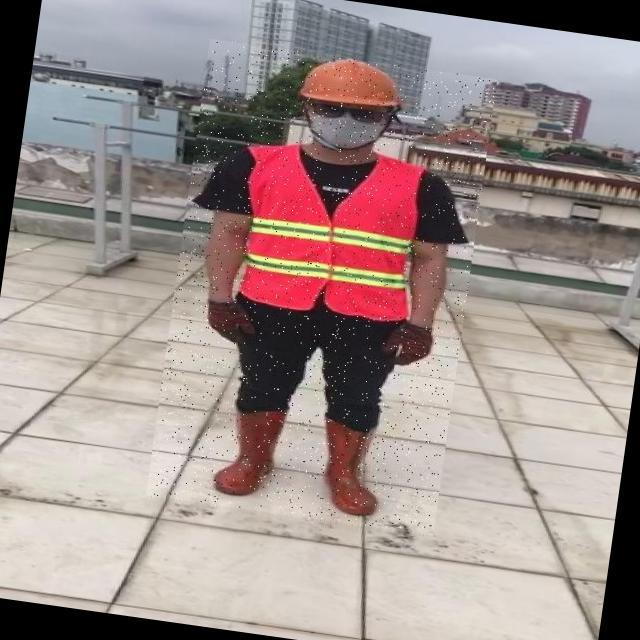Gloves: (197, 299, 258, 350), (382, 324, 436, 374)
Helmet: (295, 53, 411, 118)
Human: (146, 40, 497, 538)
Safety Boot: (311, 420, 393, 523), (213, 405, 285, 503)
Safety Vest: (226, 141, 430, 330)
